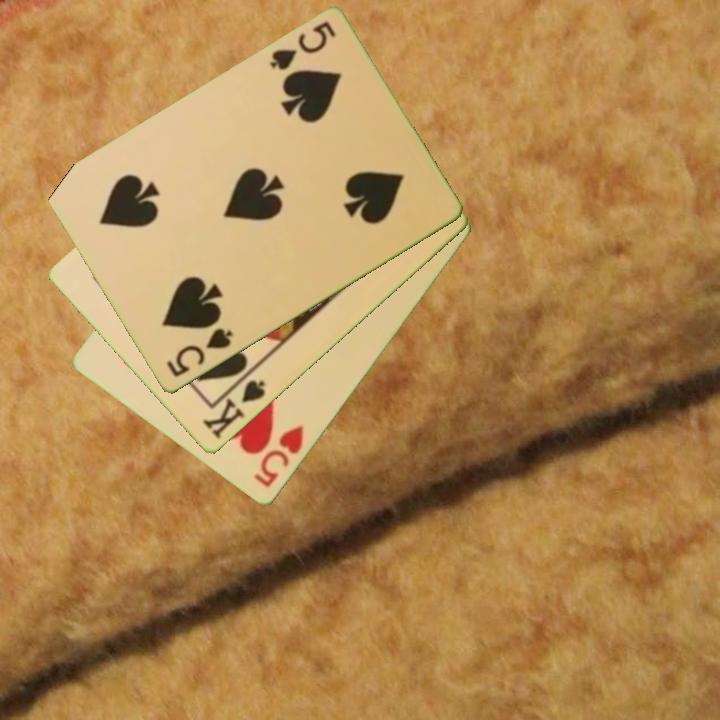5h: (250, 422, 307, 491)
5s: (162, 325, 236, 381), (266, 18, 339, 74)
Ks: (199, 368, 269, 443)
